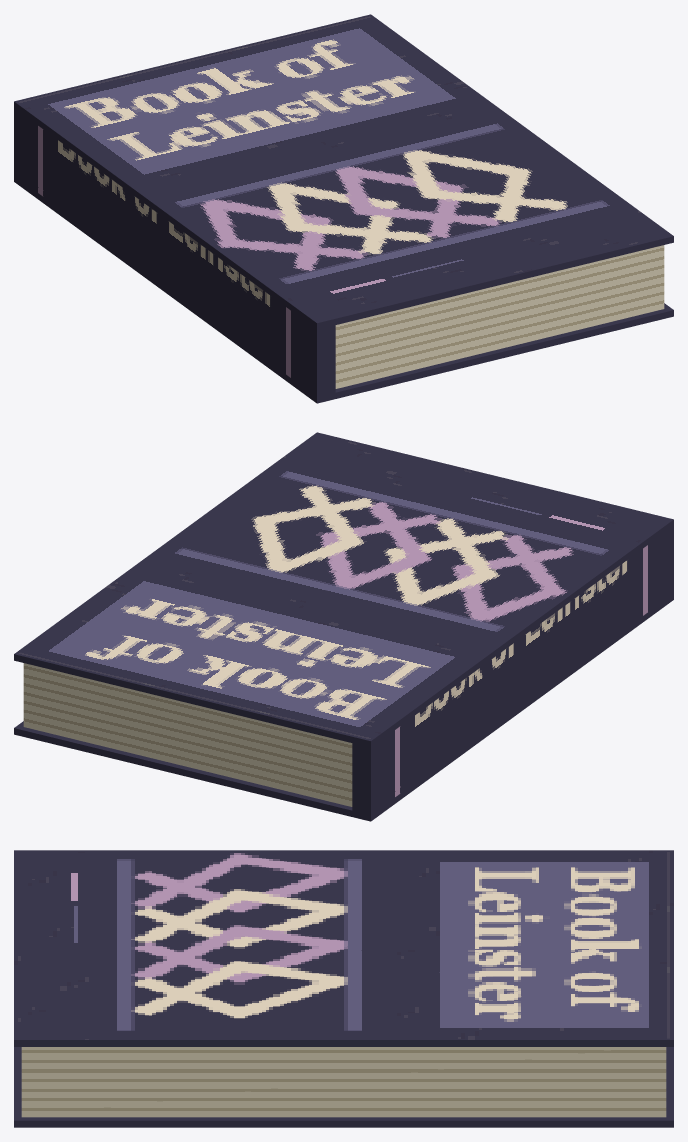
File: holybook_leinster.glb
3 views of the same model, one above another, from view 1: azimuth 30°, elevation 25°; view 2: azimuth 150°, elevation 25°; view 3: azimuth 270°, elevation 25° (orthographic). The views are drawn at different scales.
Parts seen in each view (by area): view 1: block_front cover, block_spine, block_page block, block_back cover; view 2: block_front cover, block_spine, block_page block, block_back cover; view 3: block_front cover, block_page block, block_back cover.
Part boxes in pixels (x1=…): block_front cover: x1=14, y1=14, x2=673, y2=329; block_spine: x1=14, y1=108, x2=335, y2=396; block_page block: x1=335, y1=245, x2=664, y2=388; block_back cover: x1=14, y1=175, x2=673, y2=403; block_front cover: x1=14, y1=432, x2=673, y2=747; block_spine: x1=352, y1=526, x2=673, y2=814; block_page block: x1=23, y1=663, x2=352, y2=806; block_back cover: x1=14, y1=593, x2=673, y2=821; block_front cover: x1=14, y1=850, x2=673, y2=1046; block_page block: x1=21, y1=1047, x2=666, y2=1117; block_back cover: x1=14, y1=1047, x2=673, y2=1127.
Size of the model in its own units: 0.1734 by 0.0373 by 0.255.
1 material, 1 textured.
